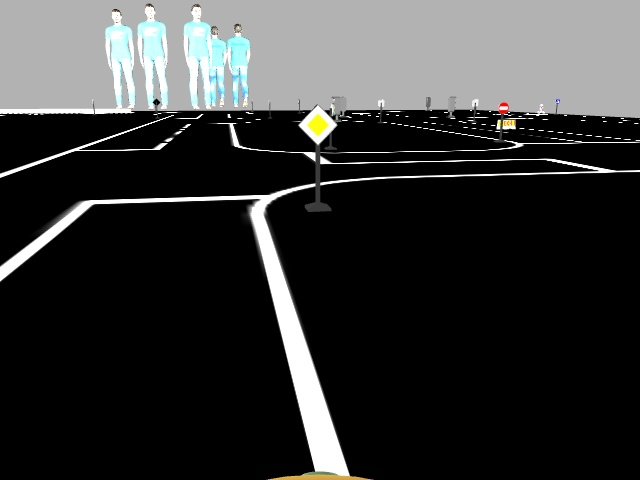ClosedRoadStand: (496, 119, 516, 129)
NoEntry: (495, 101, 509, 115)
Priority: (294, 102, 339, 144)
